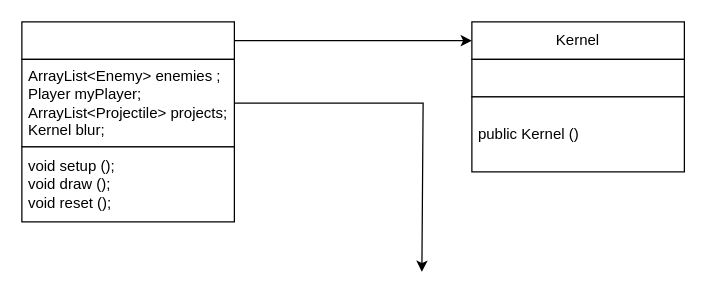
Image size: 706x304. Some labels were removed from this diagram. The shapes that lost their labels are listed below. From the top down, each one's box as (x1, y1, x2, y2) in pixels, then its label:
(21, 21, 234, 59): Driver
(471, 58, 684, 97): float[][] Kernel;
